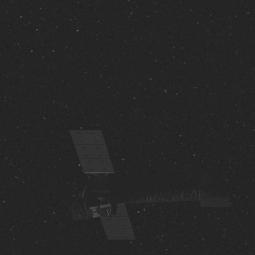xmm_newton: (51, 126, 249, 255)
